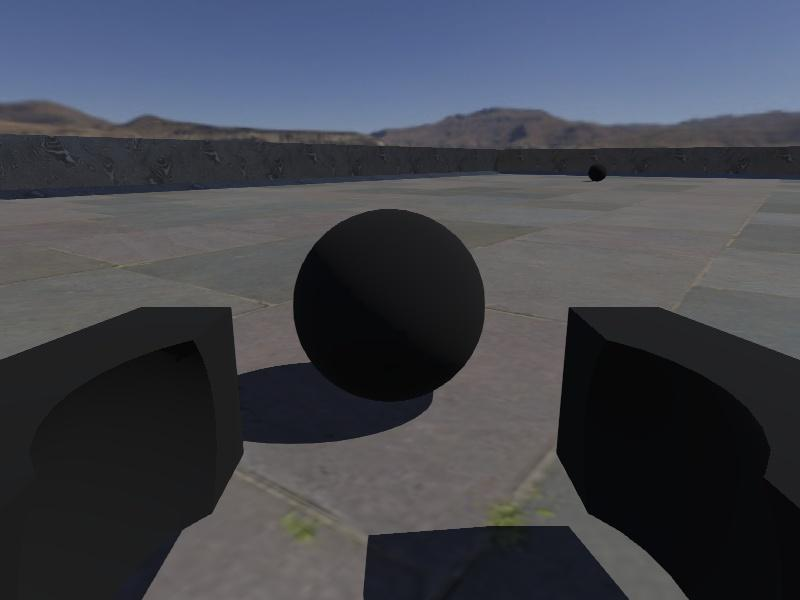black ball: (292, 208, 486, 404), (587, 162, 608, 183)
